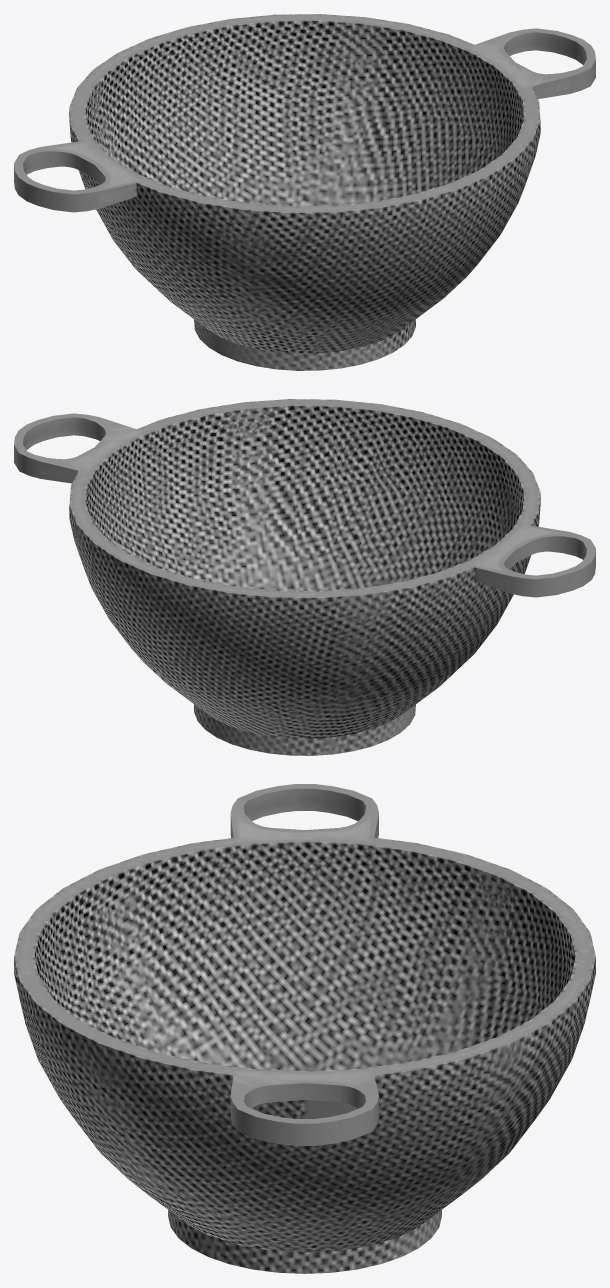
File: colander.fbx
3 views of the same model, one above another, from view 1: azimuth 30°, elevation 25°; view 2: azimuth 150°, elevation 25°; view 3: azimuth 270°, elevation 25° (orthographic). The views are drawn at different scales.
Visible parts, largest first — view 1: colander; view 2: colander; view 3: colander.
Part boxes in pixels (x1=…): colander: x1=14, y1=14, x2=595, y2=370; colander: x1=14, y1=399, x2=595, y2=755; colander: x1=14, y1=784, x2=595, y2=1273.
Bounding box in the file's own units: 107 × 38.67 × 77.83.
